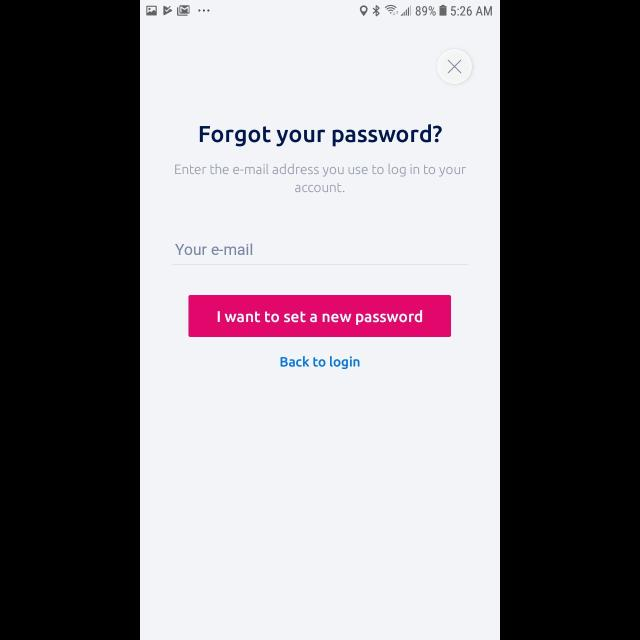icon: (436, 49, 472, 85)
input: (172, 244, 468, 266)
text: (176, 164, 467, 192), (200, 124, 442, 148), (280, 356, 360, 369), (175, 244, 252, 256)
textbutton: (188, 295, 452, 337)
uppertaskbar: (140, 1, 500, 18)
